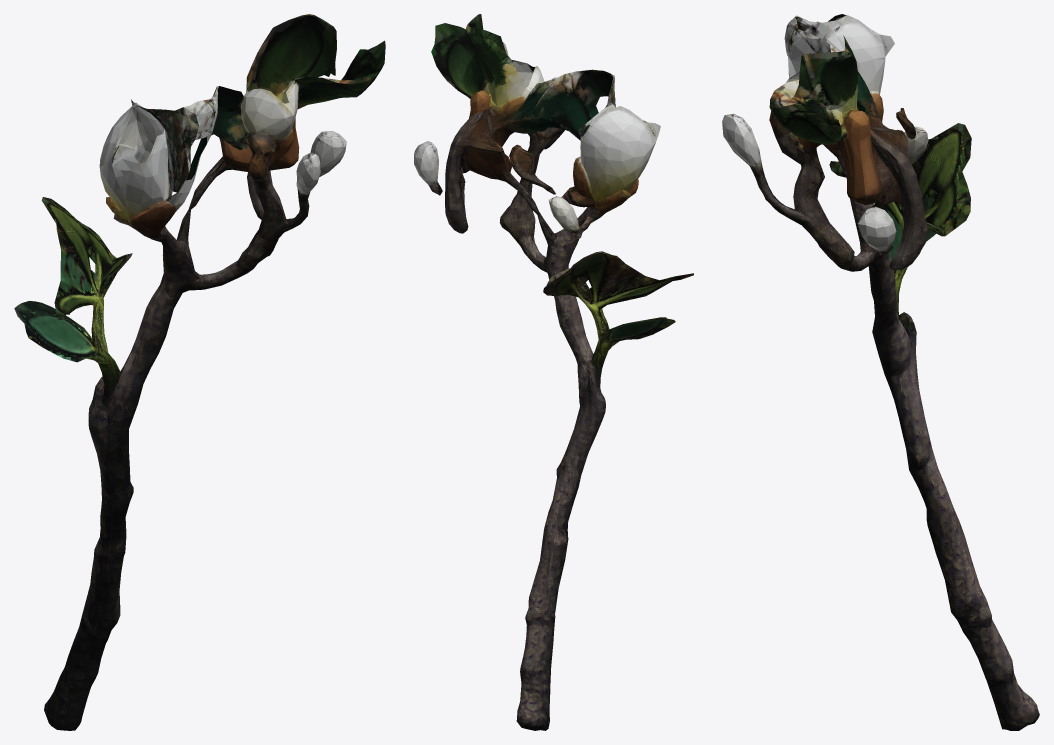
The model's file is flower.obj.
3 views of the same model, side by side, from view 1: azimuth 30°, elevation 25°; view 2: azimuth 150°, elevation 25°; view 3: azimuth 270°, elevation 25° (orthographic). The views are drawn at different scales.
Parts seen in each view (by area): view 1: geometry_0; view 2: geometry_0; view 3: geometry_0.
Boxes of the visible parts, x1,y1,x2,y2 form: geometry_0: (14,14,385,730); geometry_0: (414,14,693,730); geometry_0: (722,14,1039,730).
Size of the model in its own units: 119 by 260 by 98.5.
Materials: 1 (1 with a texture image).
